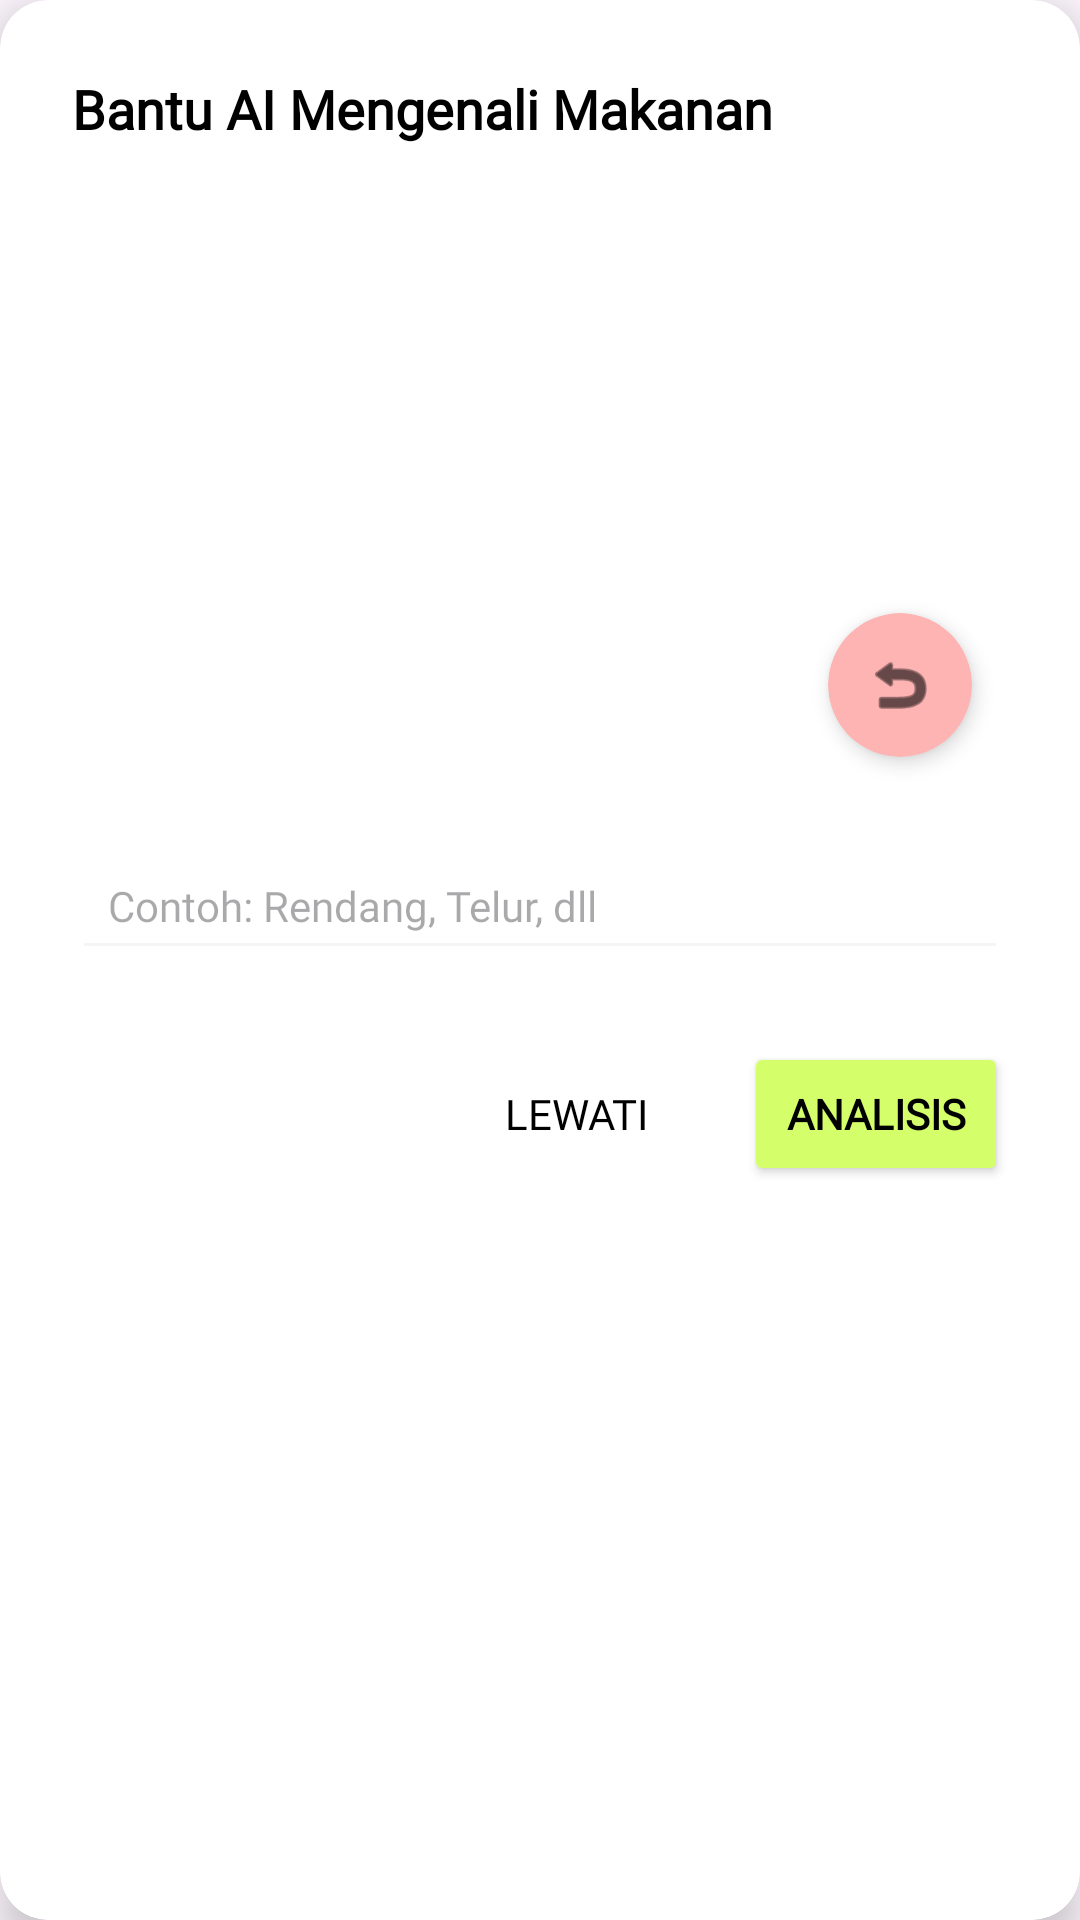

Icons on this 1080x1920 Android screen, each with its box as (x1, y1, x2, y2):
revert: (875, 662, 927, 709)
